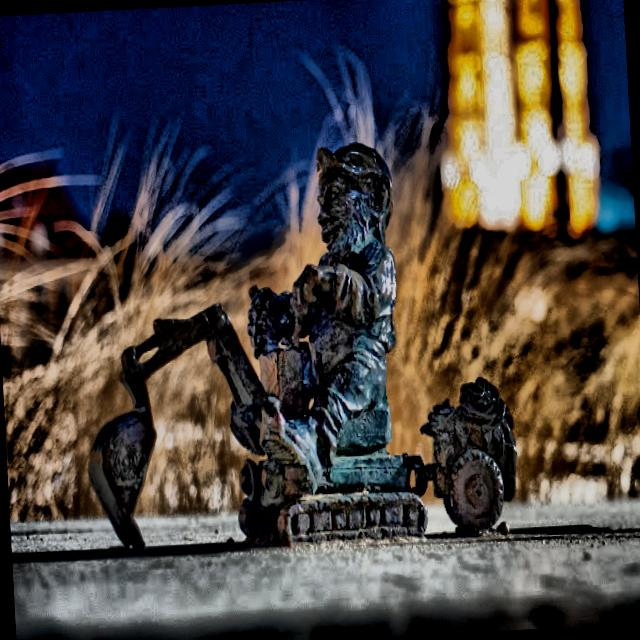Koparkus: (89, 144, 516, 549)
